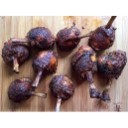chicken_lollipop: (97, 49, 127, 105), (71, 48, 101, 98), (8, 75, 51, 108), (9, 24, 57, 52), (53, 22, 93, 52), (90, 16, 121, 51), (30, 50, 58, 88), (1, 36, 28, 74), (51, 75, 76, 113)
